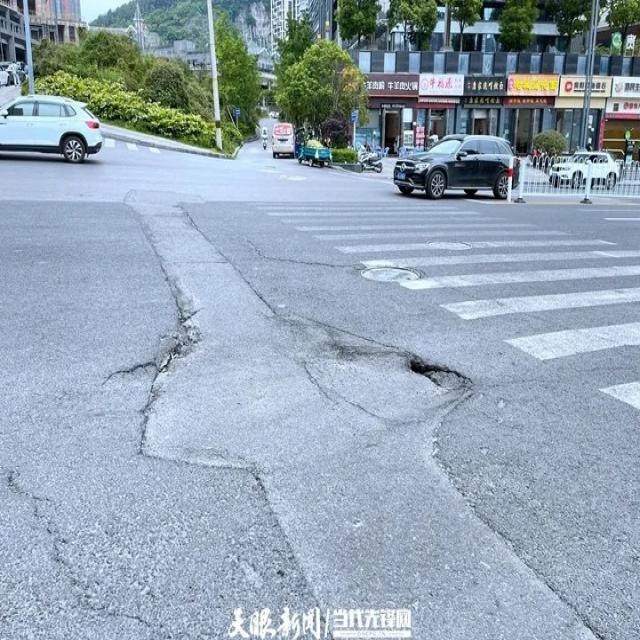Pothole: (137, 322, 469, 482)
